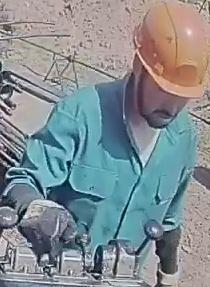gloves: (16, 198, 78, 257)
helmet: (132, 0, 209, 99)
vest: (54, 74, 198, 272)
